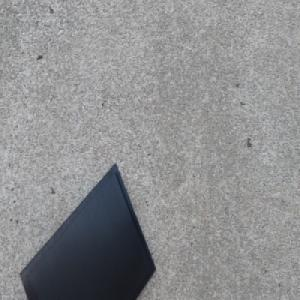PlasticPart: (18, 160, 155, 300)
